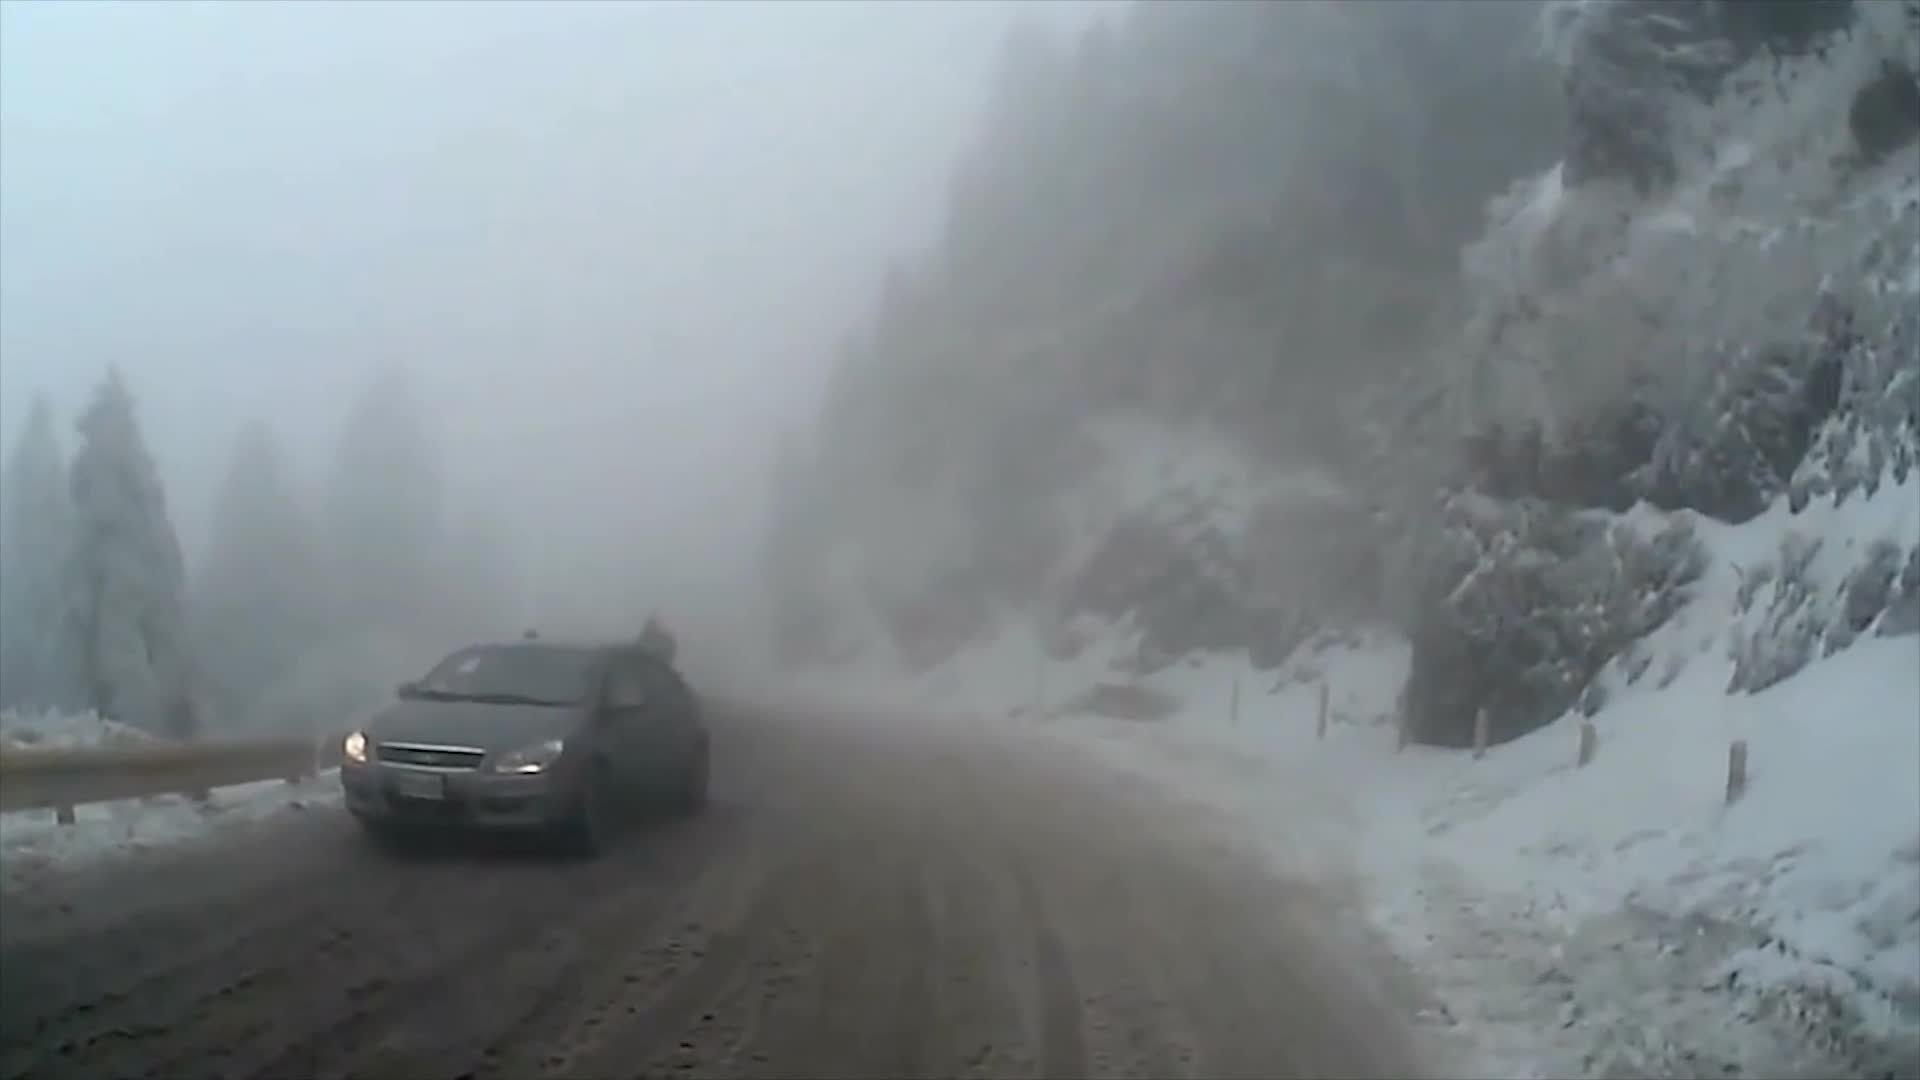vehicle: (338, 638, 708, 858)
